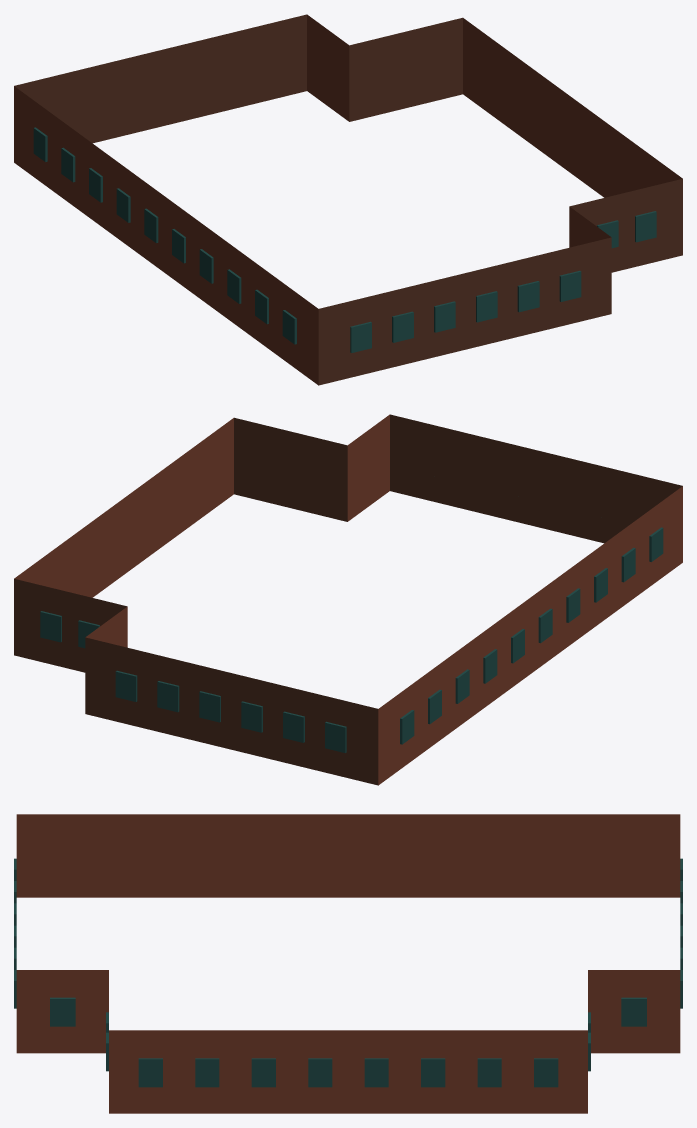
File: TB_CITY_Skysc_S_LowerBodyB_Brown.FBX
3 views of the same model, one above another, from view 1: azimuth 30°, elevation 25°; view 2: azimuth 150°, elevation 25°; view 3: azimuth 270°, elevation 25° (orthographic). The views are drawn at different scales.
Parts seen in each view (by area): view 1: TB_CITY_Skysc_S_LowerBodyB_Brown; view 2: TB_CITY_Skysc_S_LowerBodyB_Brown; view 3: TB_CITY_Skysc_S_LowerBodyB_Brown.
Part boxes in pixels (x1,y1,x2,y2): TB_CITY_Skysc_S_LowerBodyB_Brown: (14,14,682,385); TB_CITY_Skysc_S_LowerBodyB_Brown: (14,414,682,785); TB_CITY_Skysc_S_LowerBodyB_Brown: (14,814,682,1113).
Bounding box in the file's own units: 28.06 × 5 × 36.3.
